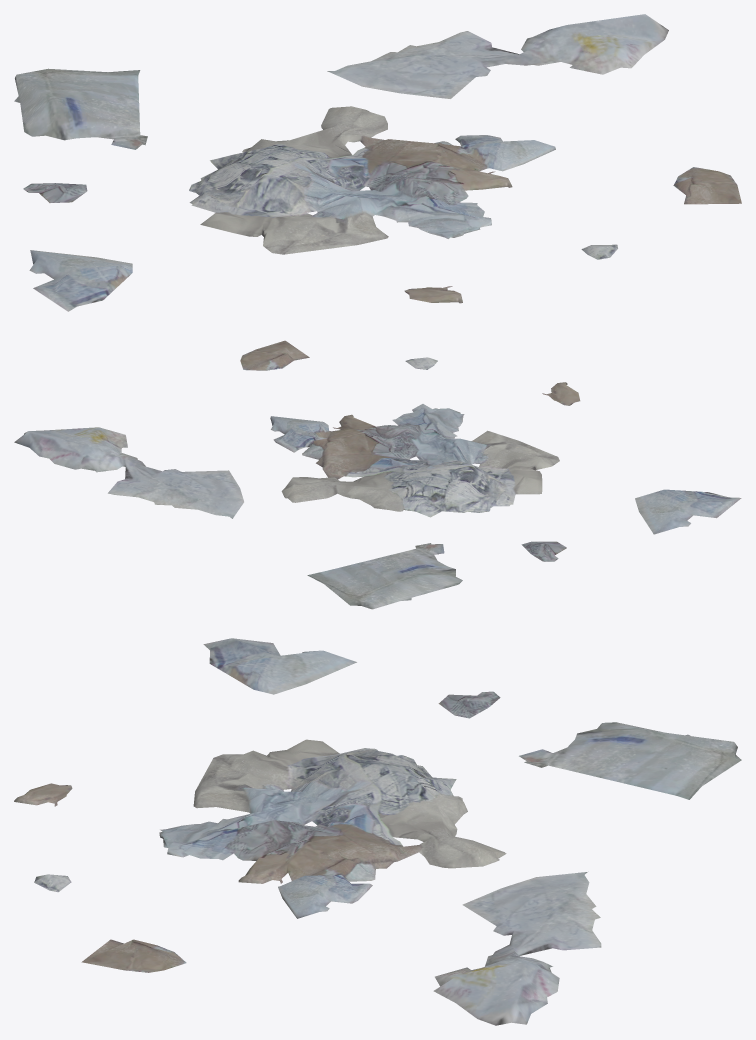
File: wastepaper1a.obj
3 views of the same model, one above another, from view 1: azimuth 30°, elevation 25°; view 2: azimuth 150°, elevation 25°; view 3: azimuth 270°, elevation 25° (orthographic). The views are drawn at different scales.
Visible parts, largest first — view 1: LODGroup_1_MainMesh_1_Submesh_1; view 2: LODGroup_1_MainMesh_1_Submesh_1; view 3: LODGroup_1_MainMesh_1_Submesh_1.
Boxes of the visible parts, bbox=[...] form: LODGroup_1_MainMesh_1_Submesh_1: bbox=[14, 14, 741, 311]; LODGroup_1_MainMesh_1_Submesh_1: bbox=[14, 340, 741, 609]; LODGroup_1_MainMesh_1_Submesh_1: bbox=[14, 638, 741, 1025].
Size of the model in its own units: 220 by 6.81 by 177.
1 material, 1 textured.
